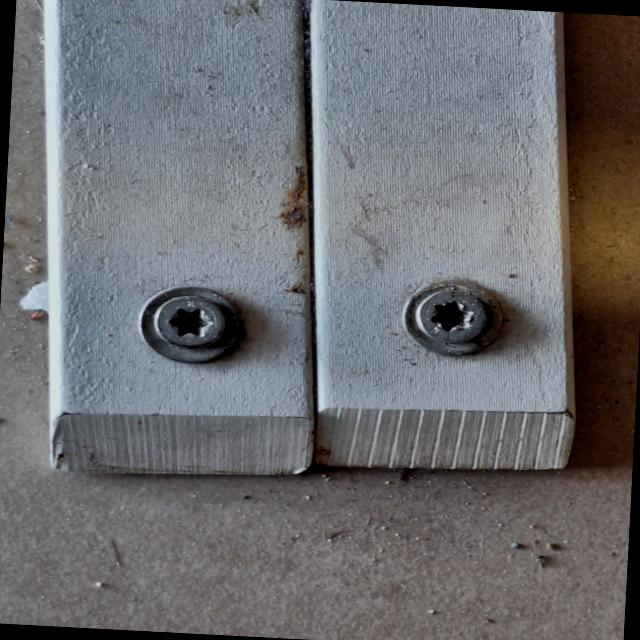Torx: (414, 284, 492, 345), (150, 296, 231, 348)
